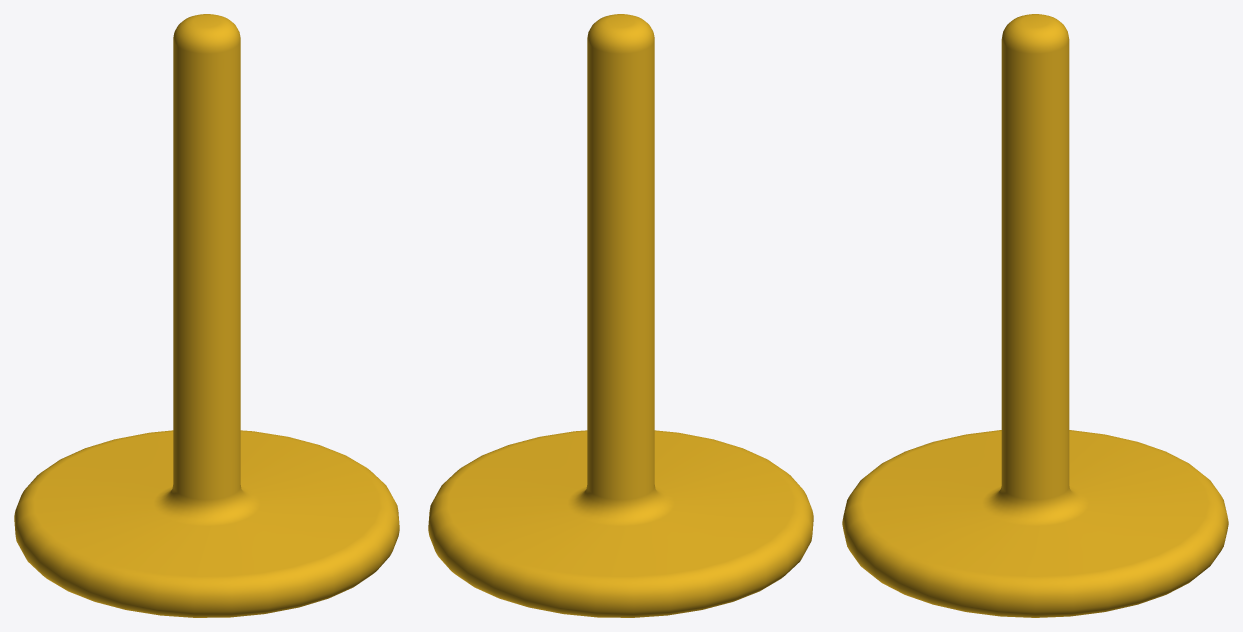
The model's file is loom.fbx.
3 renders of one model, left to right at view 1: azimuth 30°, elevation 25°; view 2: azimuth 150°, elevation 25°; view 3: azimuth 270°, elevation 25°, orthographic.
Visible parts, largest first — view 1: Cylinder.003; view 2: Cylinder.003; view 3: Cylinder.003.
Part boxes in pixels (left/top/right/bottom): Cylinder.003: left=14, top=14, right=399, bottom=617; Cylinder.003: left=428, top=14, right=813, bottom=617; Cylinder.003: left=842, top=14, right=1228, bottom=617.
Size of the model in its own units: 77.56 by 116 by 77.56.
